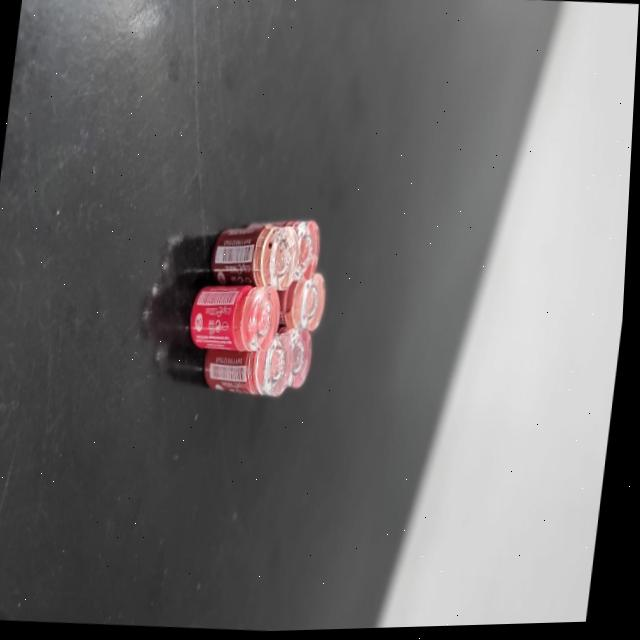lip stick: (198, 329, 304, 409), (187, 275, 288, 355), (206, 219, 308, 297)
